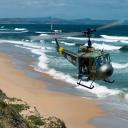helicopter: (48, 17, 118, 91)
